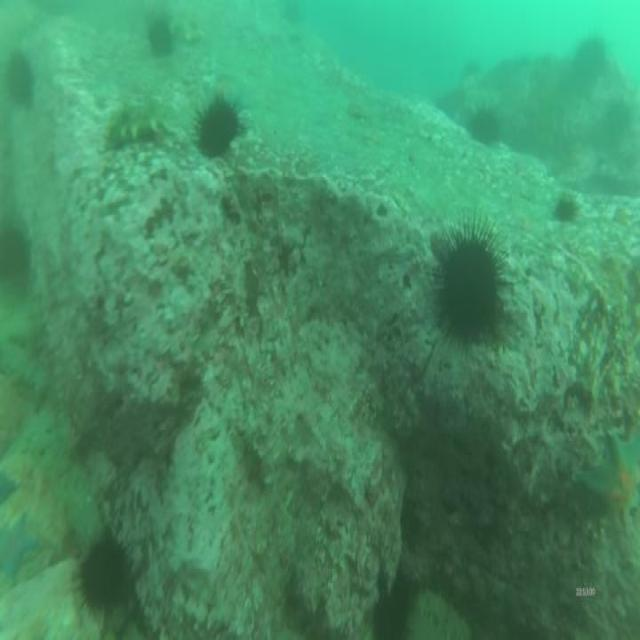echinus: (437, 220, 506, 350), (81, 542, 137, 612), (199, 96, 239, 156), (7, 51, 35, 104), (474, 101, 502, 146), (148, 20, 170, 57), (555, 194, 576, 224)
holothurian: (418, 591, 468, 640), (109, 106, 168, 142)
starfish: (587, 433, 637, 531), (2, 516, 36, 578)
